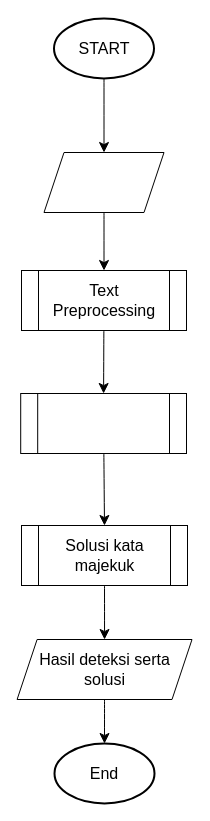
Some shapes in this 210 by 821 pixel diagram are drawn without their labels. Each missing label, with the centre of its shape:
Deteksi kata majemuk: (103,423)
Input Teks: (103,182)
